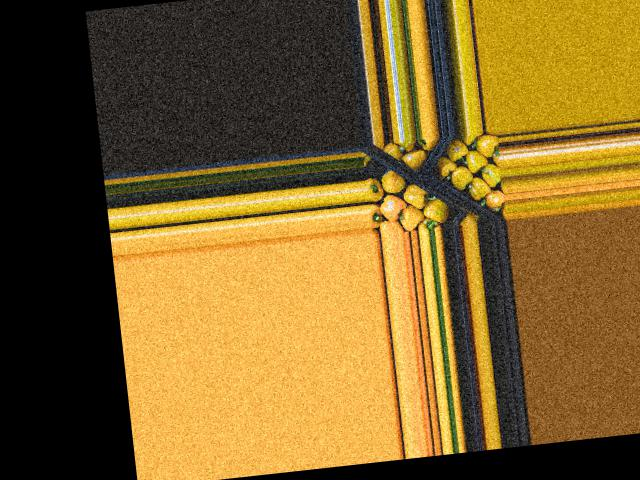bell_pepper: (469, 129, 499, 156)
